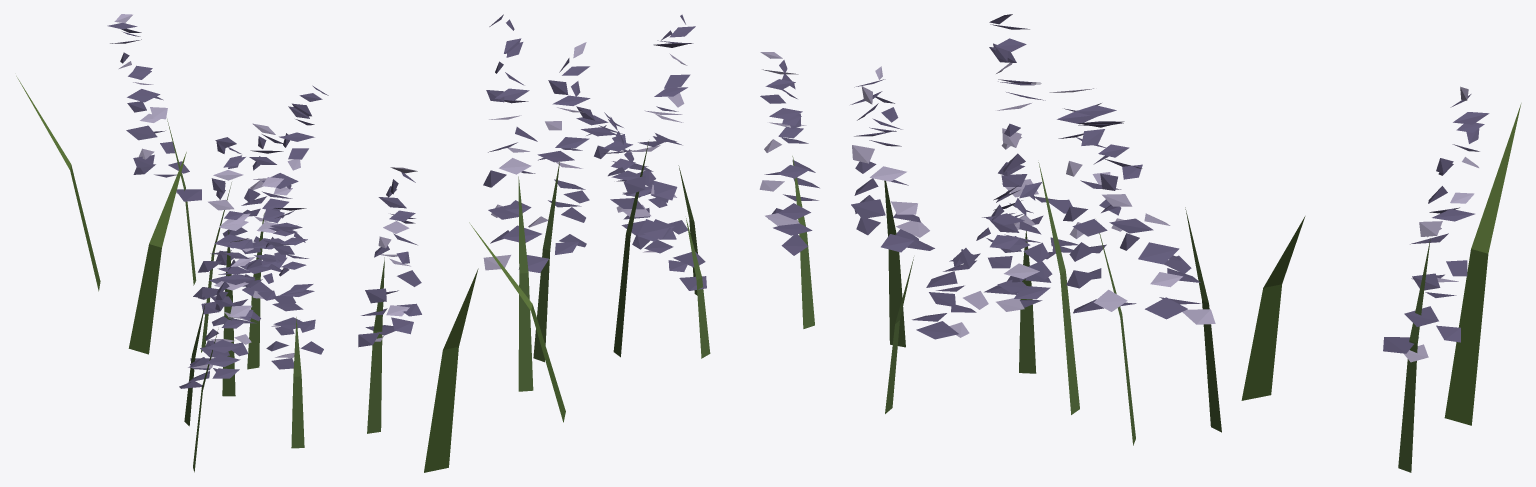
The model's file is flower-lupine.glb.
3 views of the same model, side by side, from view 1: azimuth 30°, elevation 25°; view 2: azimuth 150°, elevation 25°; view 3: azimuth 270°, elevation 25° (orthographic). The views are drawn at different scales.
Parts seen in each view (by area): view 1: Flower_Lupine; view 2: Flower_Lupine; view 3: Flower_Lupine.
Part boxes in pixels (<box>): Flower_Lupine: <box>16,14,328,472</box>; Flower_Lupine: <box>358,14,819,472</box>; Flower_Lupine: <box>850,14,1521,472</box>.
Size of the model in its own units: 0.2944 by 0.3833 by 0.6168.
Materials: 1 (1 with a texture image).
